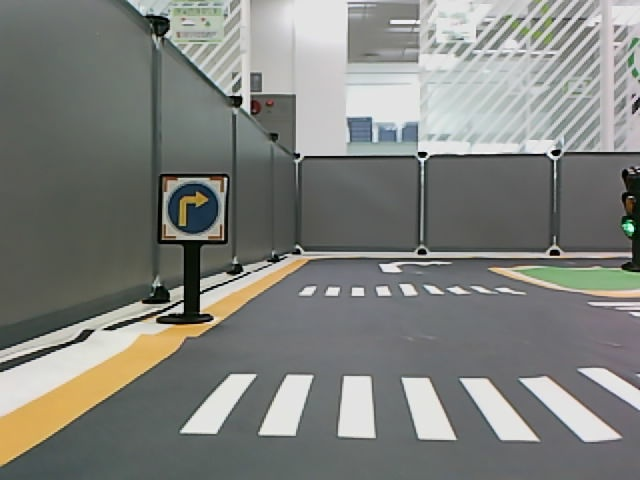crosswalk: (176, 368, 640, 443), (294, 282, 527, 297)
right: (168, 183, 220, 235)
